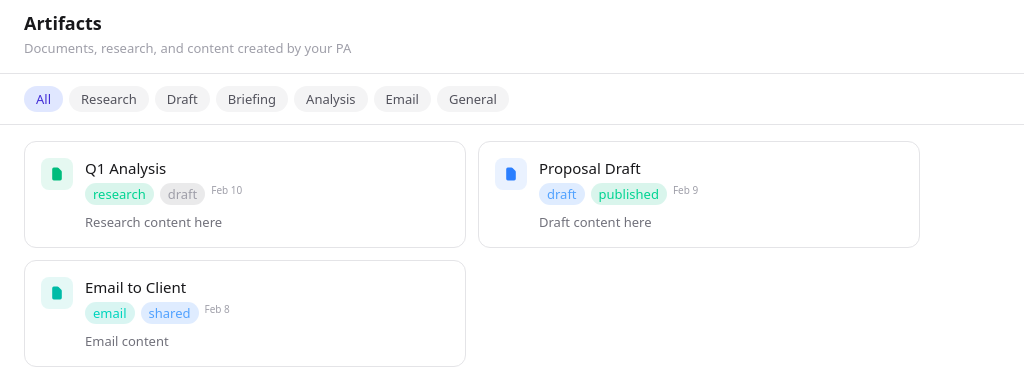
Test case: ArtifactsView › shows all again when All filter clicked
This screenshot has width=1024, height=384.
What coordinates should you click on to do the following:
click the button "Research"
I would click on:
 (109, 99)
Its box is [69, 86, 149, 112].
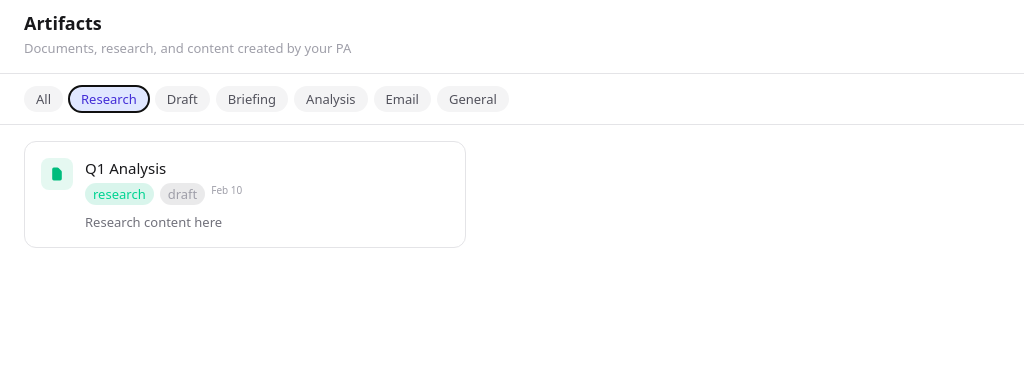
What coordinates should you click on to do the following:
click the button "All"
I would click on:
 (44, 99)
Its box is [24, 86, 63, 112].
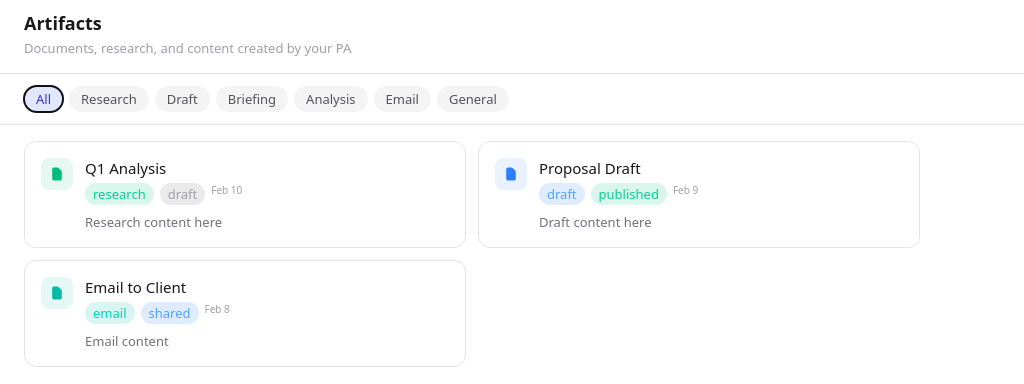
Check: the heading "Q1 Analysis" is shown, box [85, 158, 166, 178]
Check: the heading "Proposal Draft" is shown, box [539, 158, 641, 178]
Check: the heading "Email to Client" is shown, box [85, 277, 186, 297]
